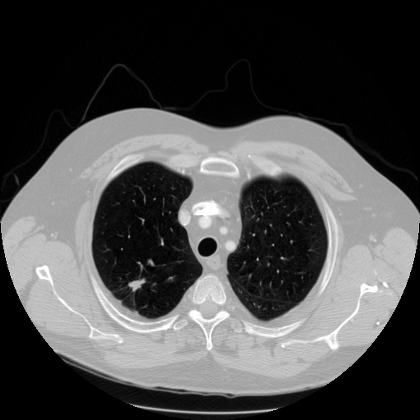nodule: (129, 274, 145, 290)
